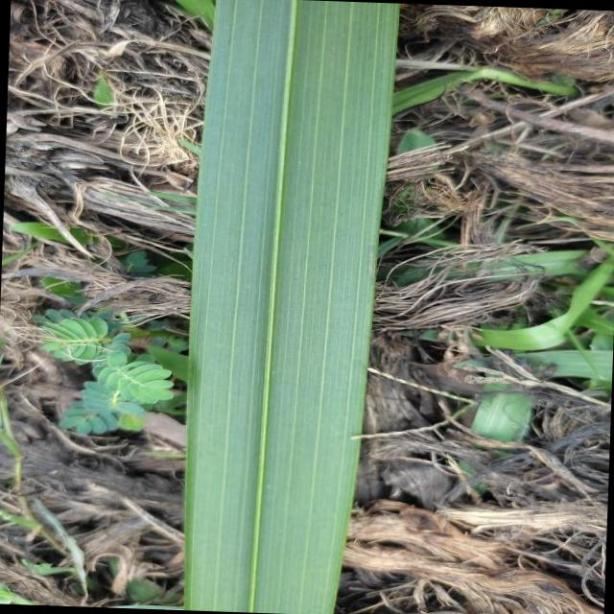Healthy: (179, 0, 398, 614)
